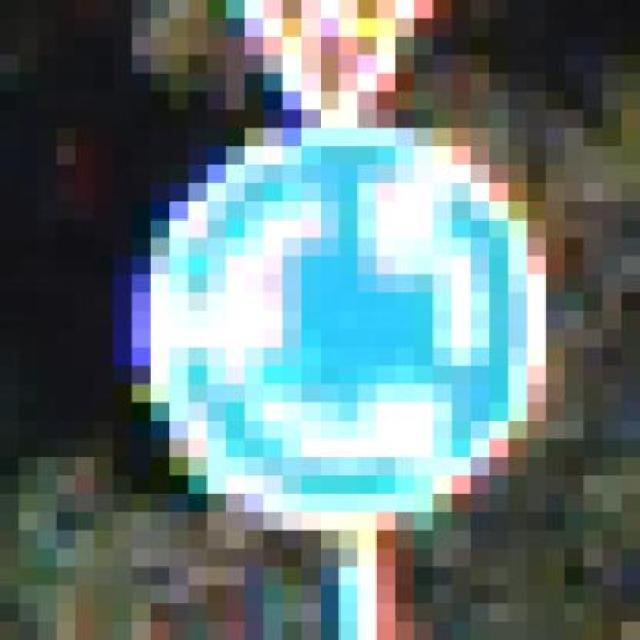Round-About: (94, 110, 603, 548)
